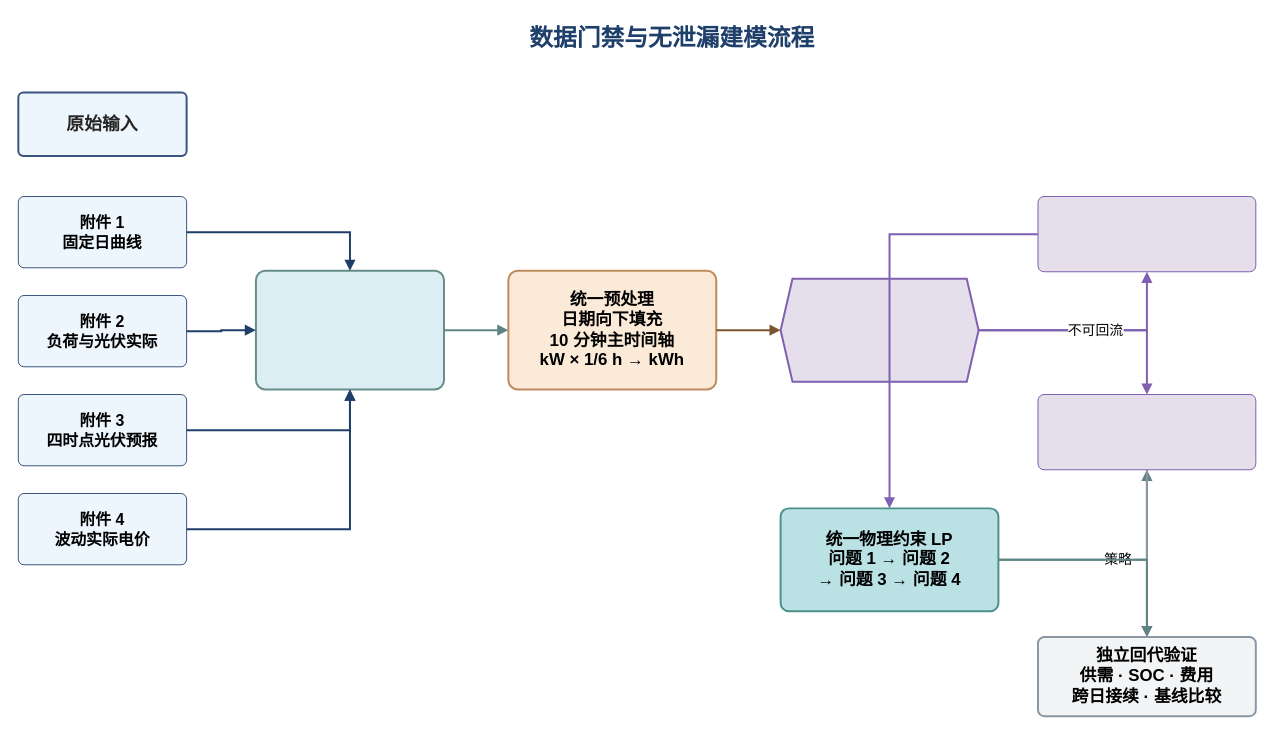
Some shapes in this 1273 by 734 pixel diagram are drawn without their labels. Each missing label, with the box of its shape:
历史窗口 滚动预测与残差分位: (1037, 196, 1256, 272)
当前日 优化后用实际轨迹结算: (1037, 394, 1256, 470)
按决策日切分信息集: (779, 277, 979, 382)
数据门禁 形状 · 日期 · 缺失 重复 · 单位 · 非负: (254, 269, 445, 390)
